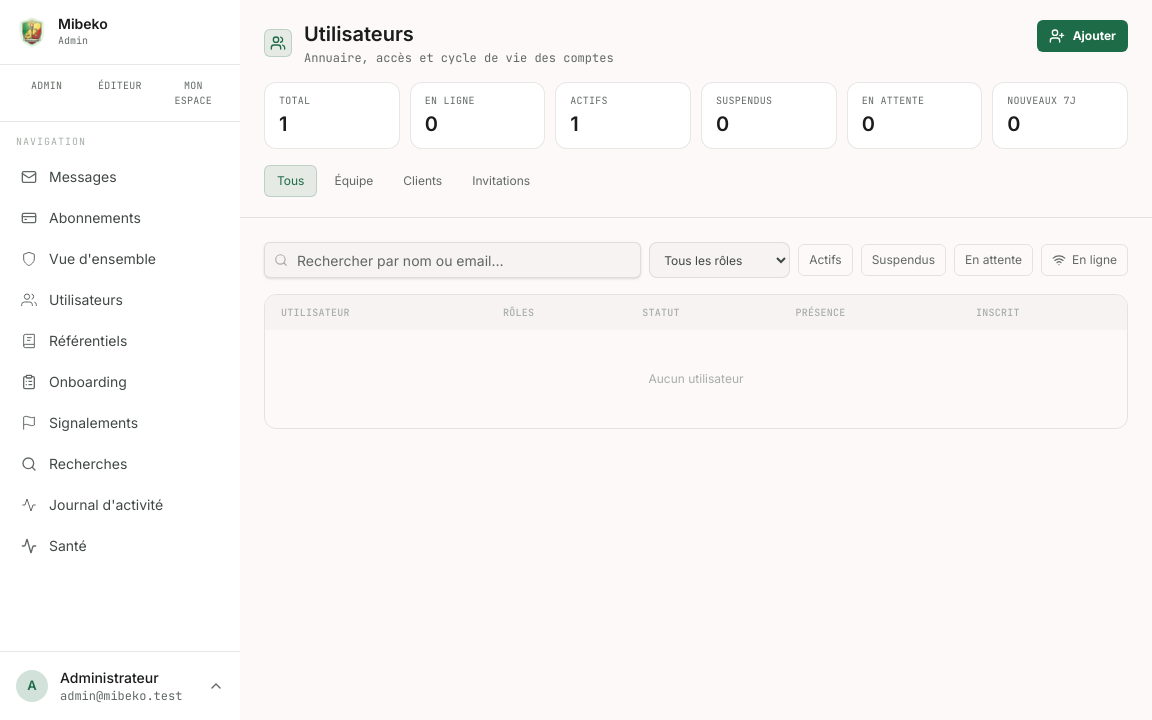
sépare les invitations en attente des invitations acceptées et expirées
The image size is (1152, 720).
Click the button "Invitations": (501, 181) [459,165,543,197]
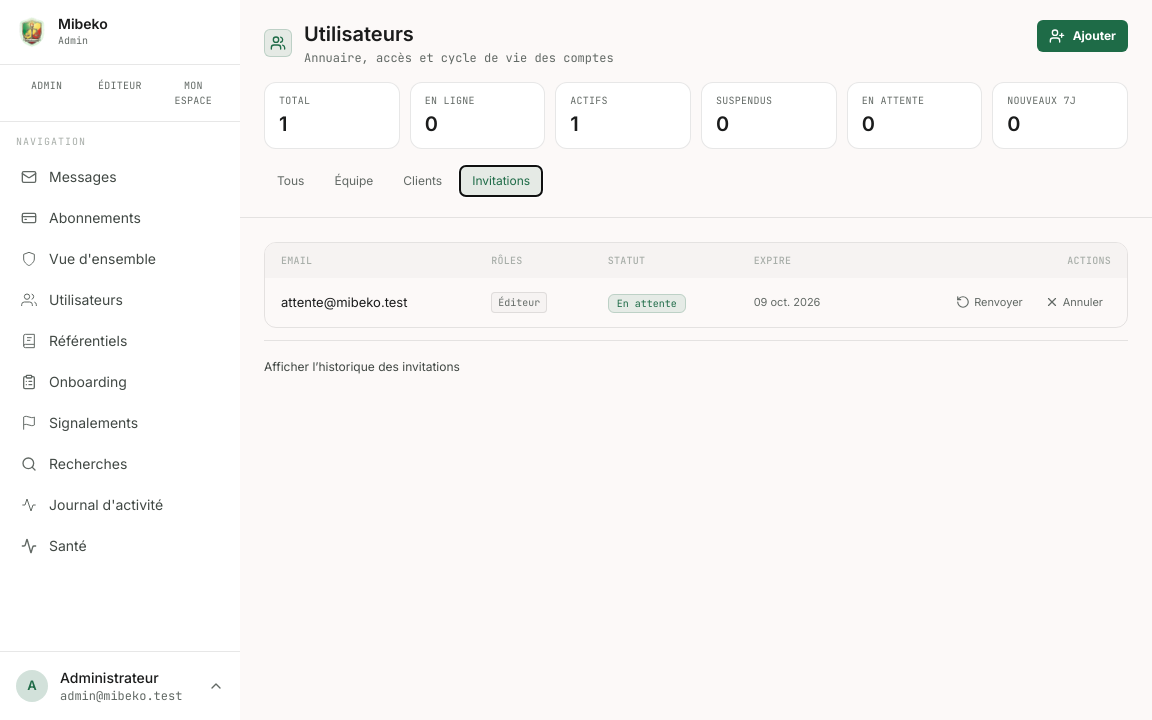
Check: the text "acceptee@mibeko.test" is not shown
Check: the text "attente@mibeko.test" is shown, box [265,278,475,326]
Click the button "Afficher l’historique des invitations": (362, 366) [264,358,460,376]
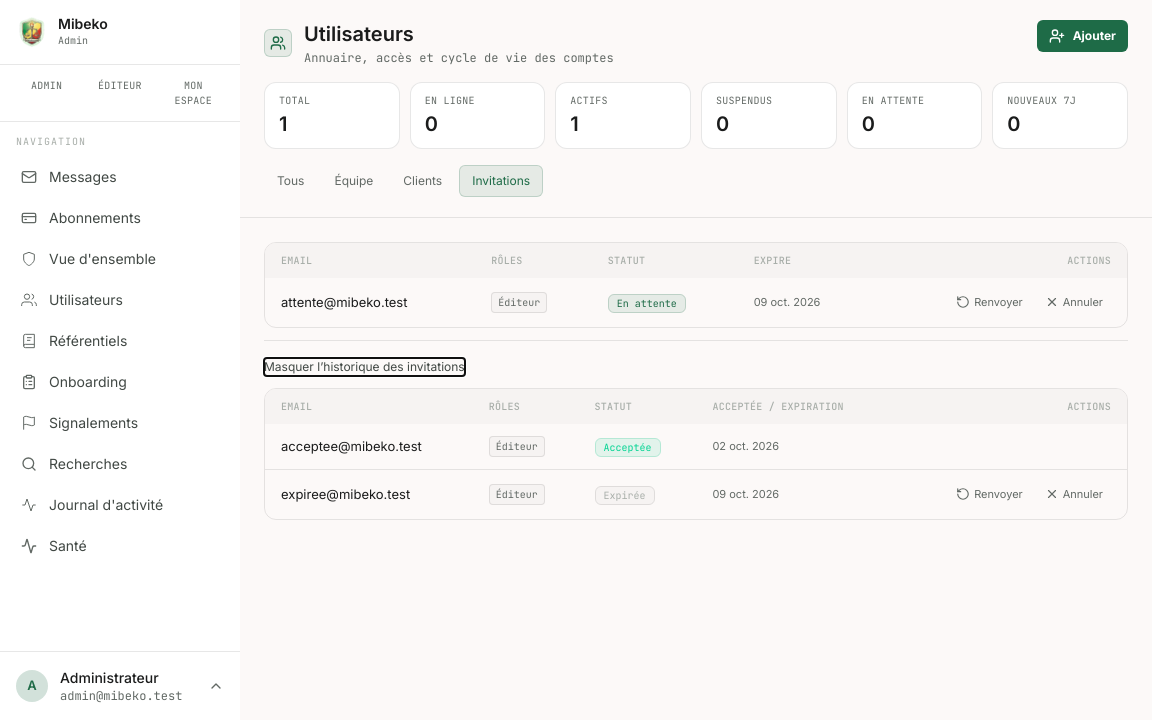
Check: the text "acceptee@mibeko.test" is shown, box [265,424,473,470]
Check: the text "expiree@mibeko.test" is shown, box [265,470,473,518]
